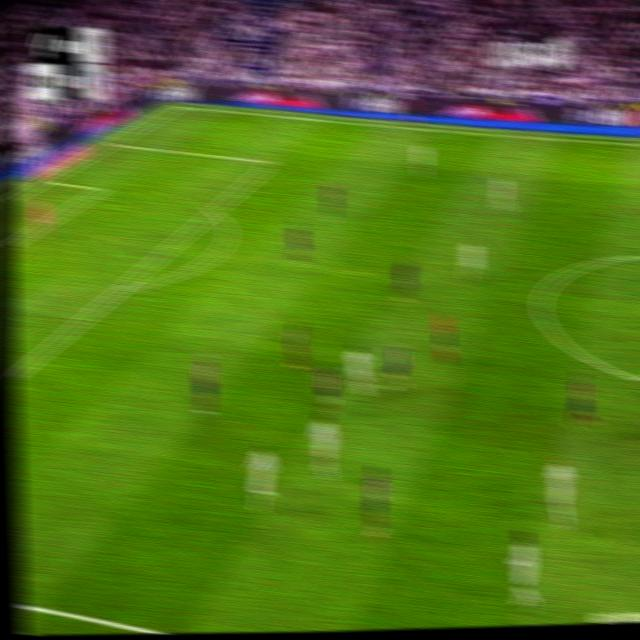bigarea_top_inner: (263, 155, 276, 169)
bigarea_top_outter: (105, 136, 119, 147)
bottom_arc_area_intersection: (113, 277, 131, 296)
corner: (170, 100, 184, 110)
smallarea_top_inner: (92, 182, 105, 193)
top_arc_area_intersection: (205, 202, 221, 218)
